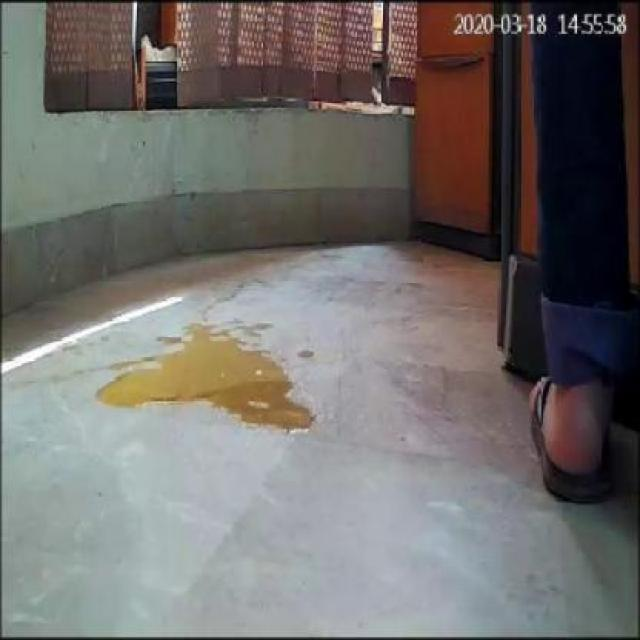spillage: (93, 326, 313, 432)
